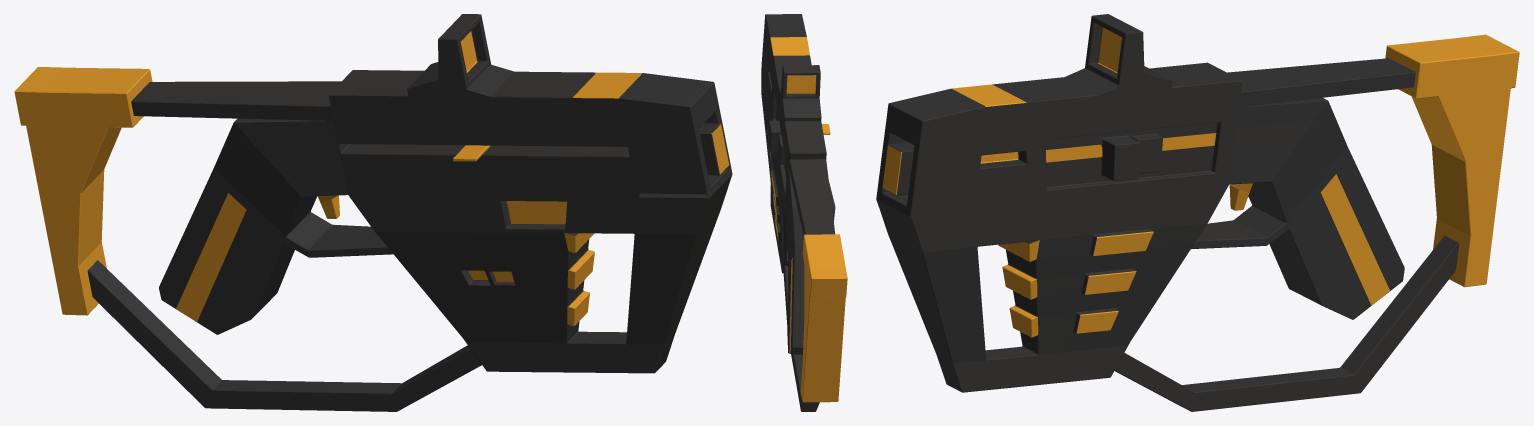
Rendered from gun.fbx.
3 views of the same model, side by side, from view 1: azimuth 30°, elevation 25°; view 2: azimuth 150°, elevation 25°; view 3: azimuth 270°, elevation 25° (orthographic). The views are drawn at different scales.
Parts seen in each view (by area): view 1: Cube; view 2: Cube; view 3: Cube.
Part boxes in pixels (box(x1,y1,x2,y2)): Cube: box(14, 14, 732, 411); Cube: box(761, 14, 847, 411); Cube: box(876, 14, 1519, 411).
Bounding box in the file's own units: 41.52 × 40.39 × 54.51.
